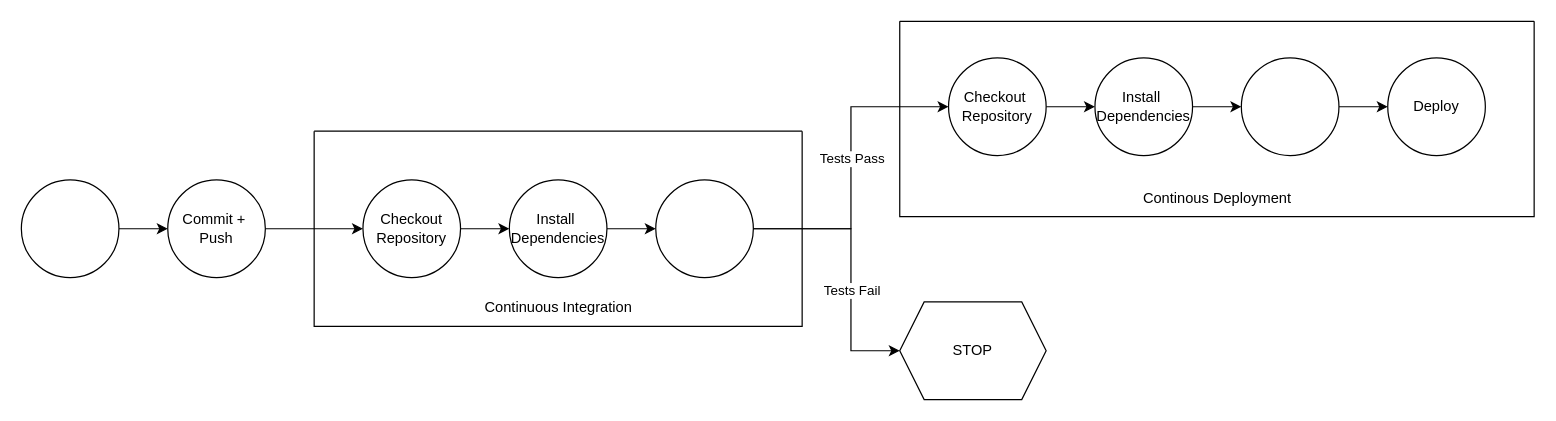
The diagram is 1556 pixels wide and 421 high, and some of its shapes have lost their labels. The centre of each missing label's shape, as x and y in pixels:
"Build Project" belongs at (x=1289, y=106).
"Code" belongs at (x=69, y=228).
"Run Tests" belongs at (x=704, y=228).
